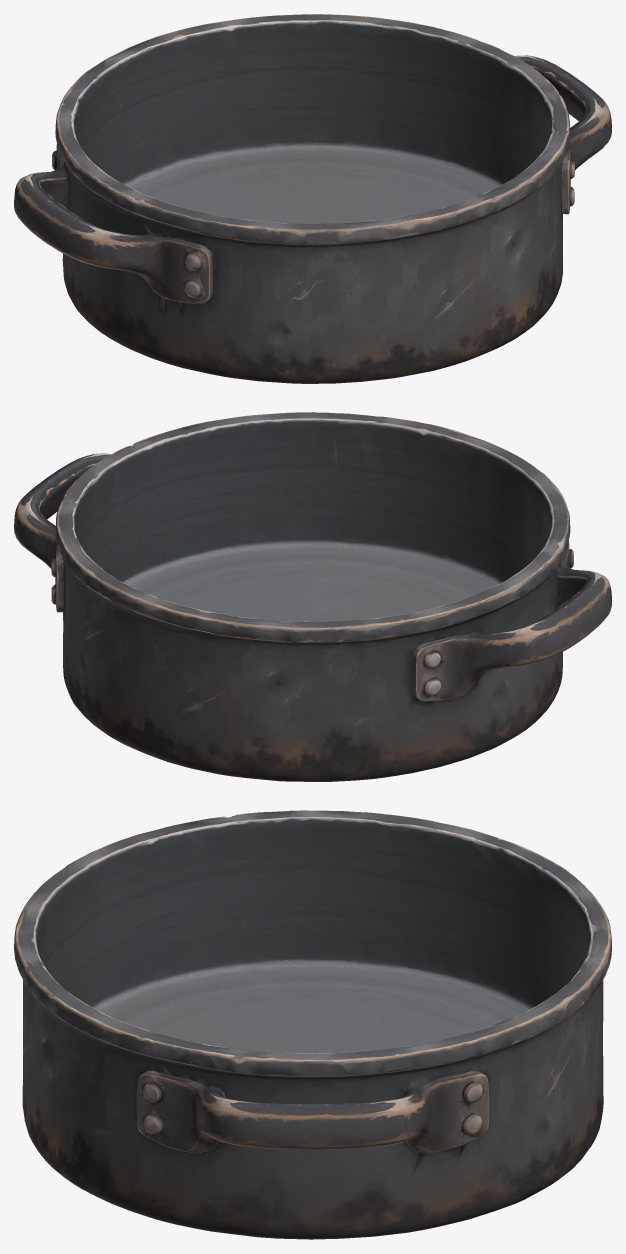
The model's file is d_cookpot.glb.
3 renders of one model, top to bottom at view 1: azimuth 30°, elevation 25°; view 2: azimuth 150°, elevation 25°; view 3: azimuth 270°, elevation 25°, orthographic. The views are drawn at different scales.
Bounding box in the file's own units: 1.9 × 0.5435 × 1.56.
1 material, 1 textured.
